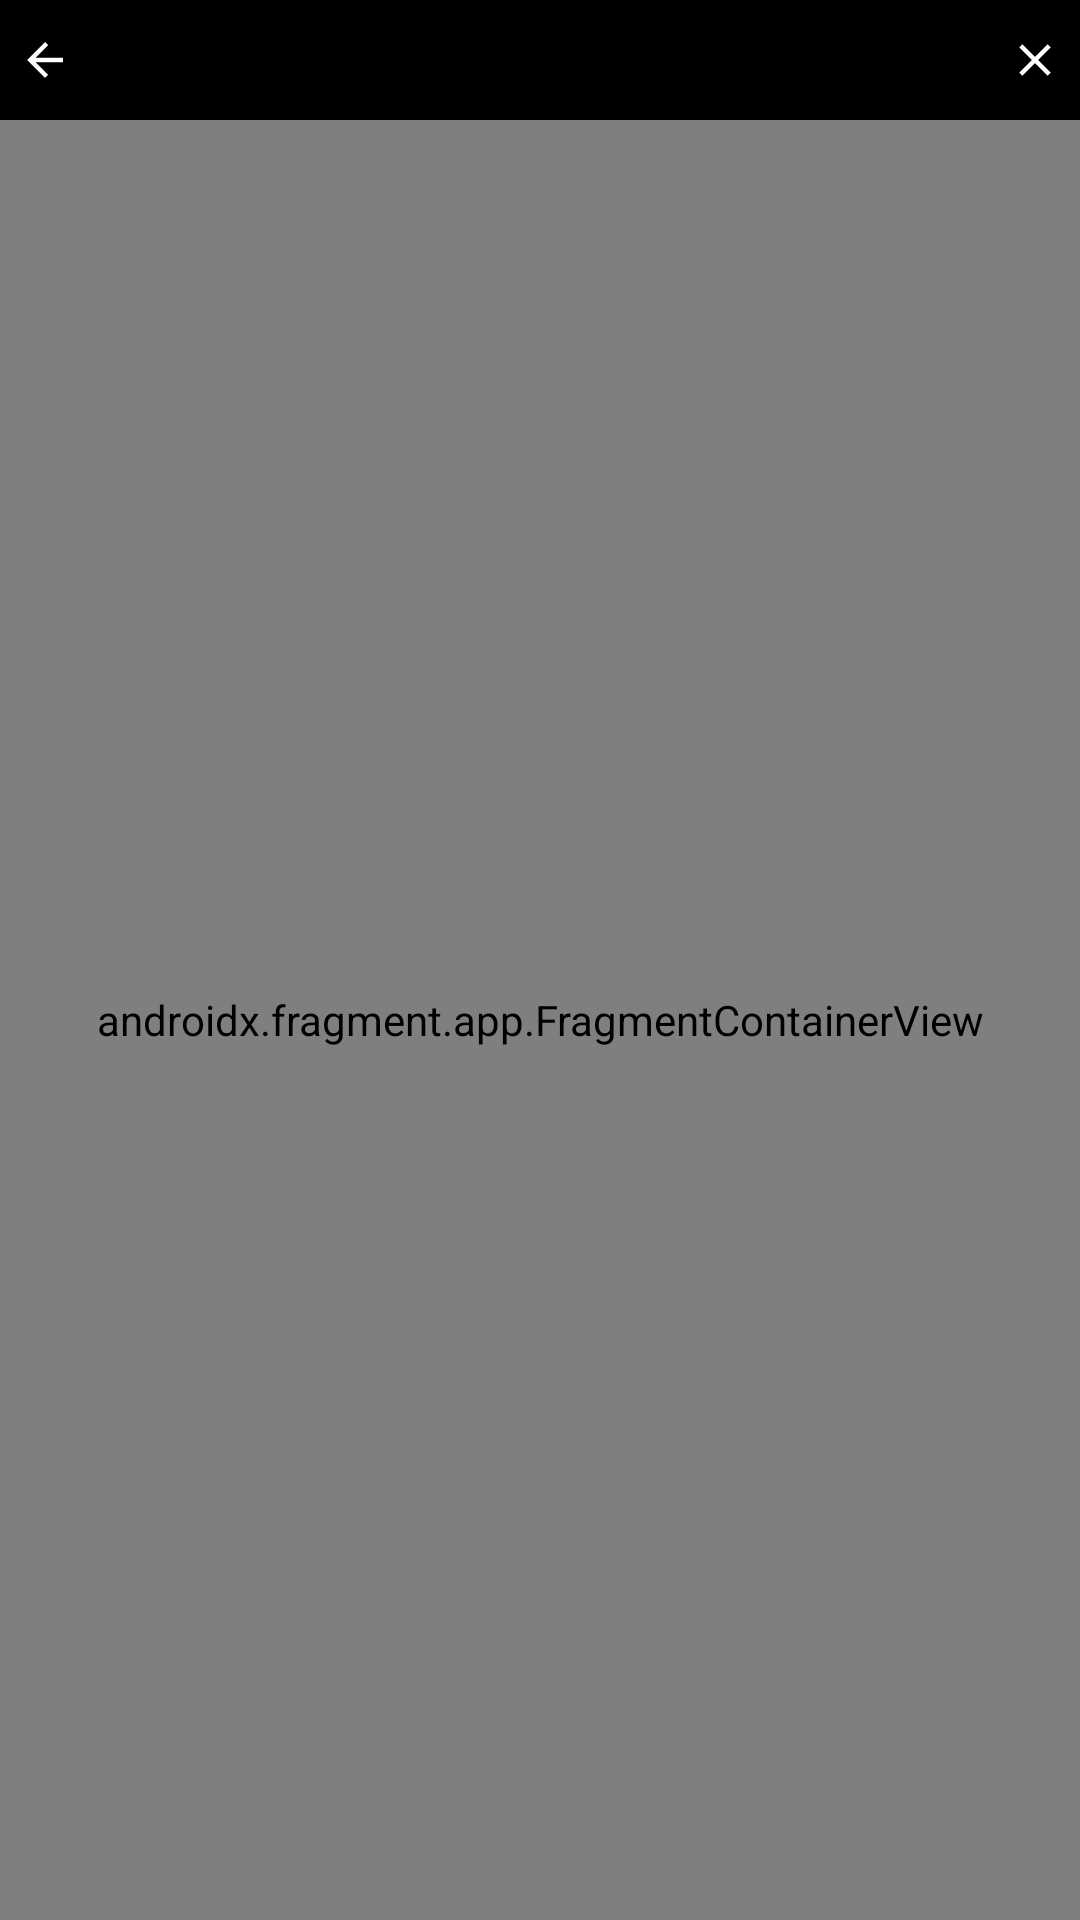

Where icons sit on this 1080px×1920px app screen, as [x1, y1, x2, y2]:
back: [27, 42, 63, 78]
close: [1019, 44, 1051, 76]
